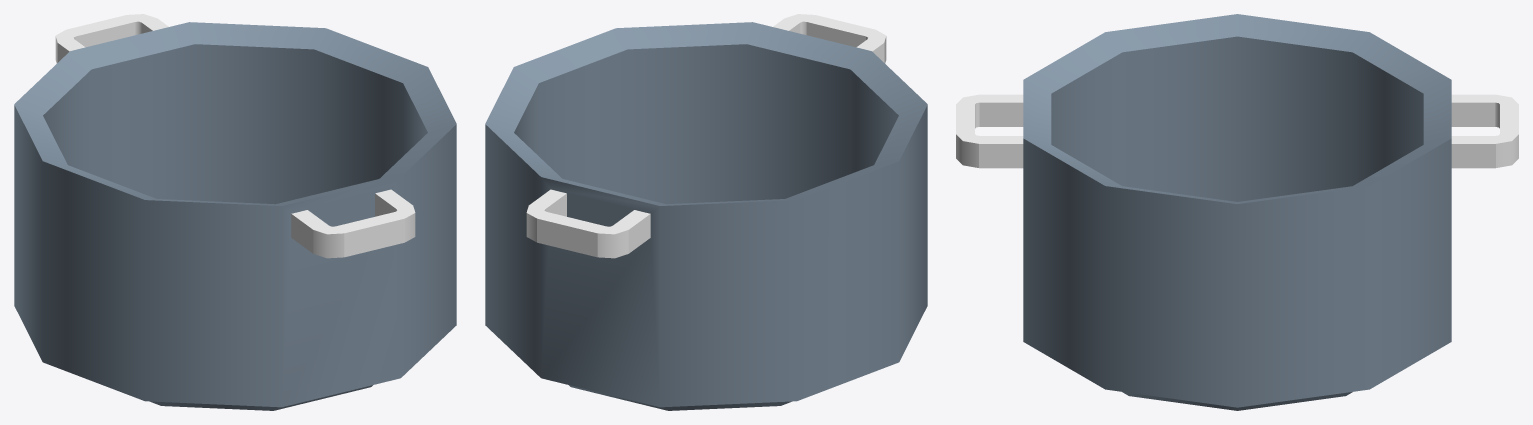
File: pot.GLB
3 views of the same model, side by side, from view 1: azimuth 30°, elevation 25°; view 2: azimuth 150°, elevation 25°; view 3: azimuth 270°, elevation 25° (orthographic).
Visible parts, largest first — view 1: pot; view 2: pot; view 3: pot.
Part boxes in pixels (box(x1,y1,x2,y2)): pot: box(14, 14, 456, 410); pot: box(485, 14, 927, 410); pot: box(956, 14, 1518, 410).
Bounding box in the file's own units: 0.6574 × 0.3608 × 0.8221.
